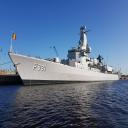Fragata: (8, 26, 122, 88)
